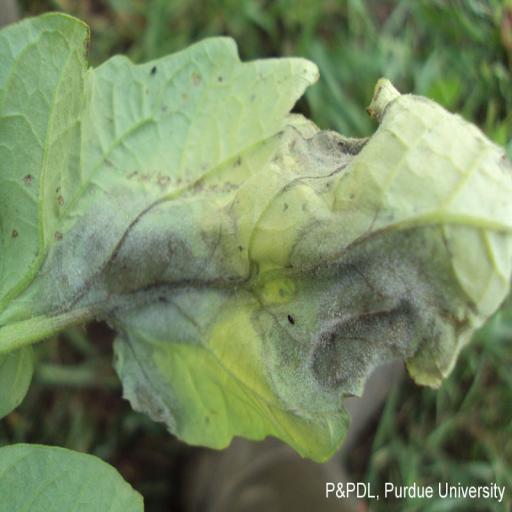disease_tomato: (0, 8, 512, 464)
